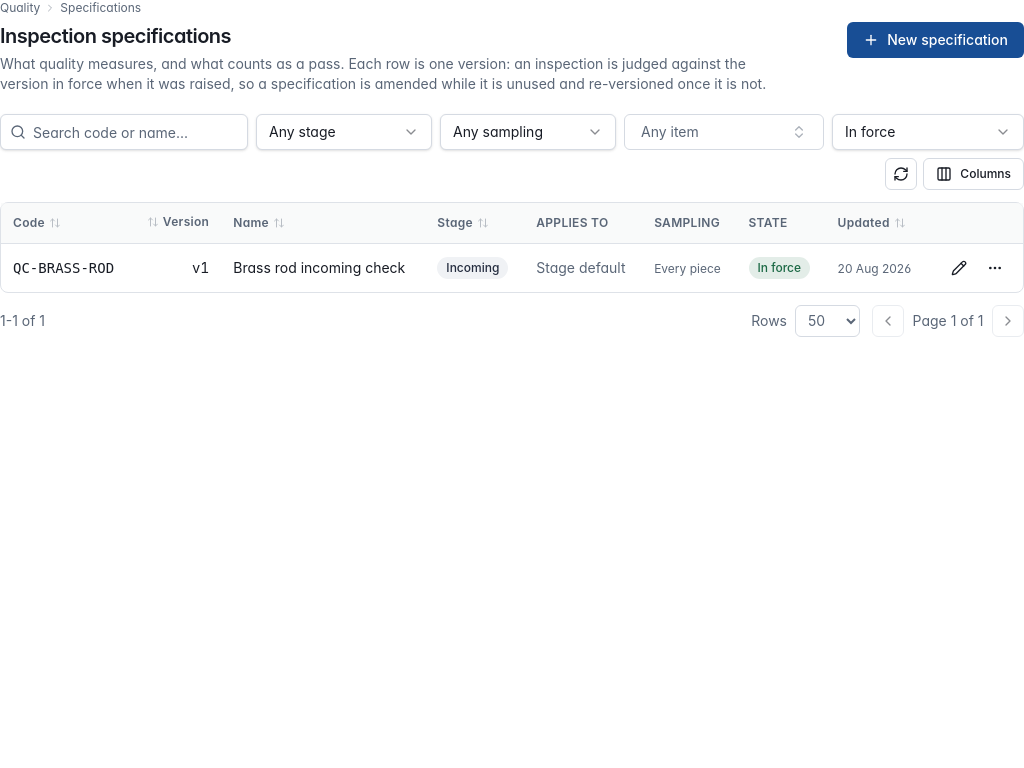
amending a version › puts a field-level refusal on the field it belongs to
Click the button named "Amend QC-BRASS-ROD v1": x=959, y=268 x1=943 y1=252 x2=975 y2=284
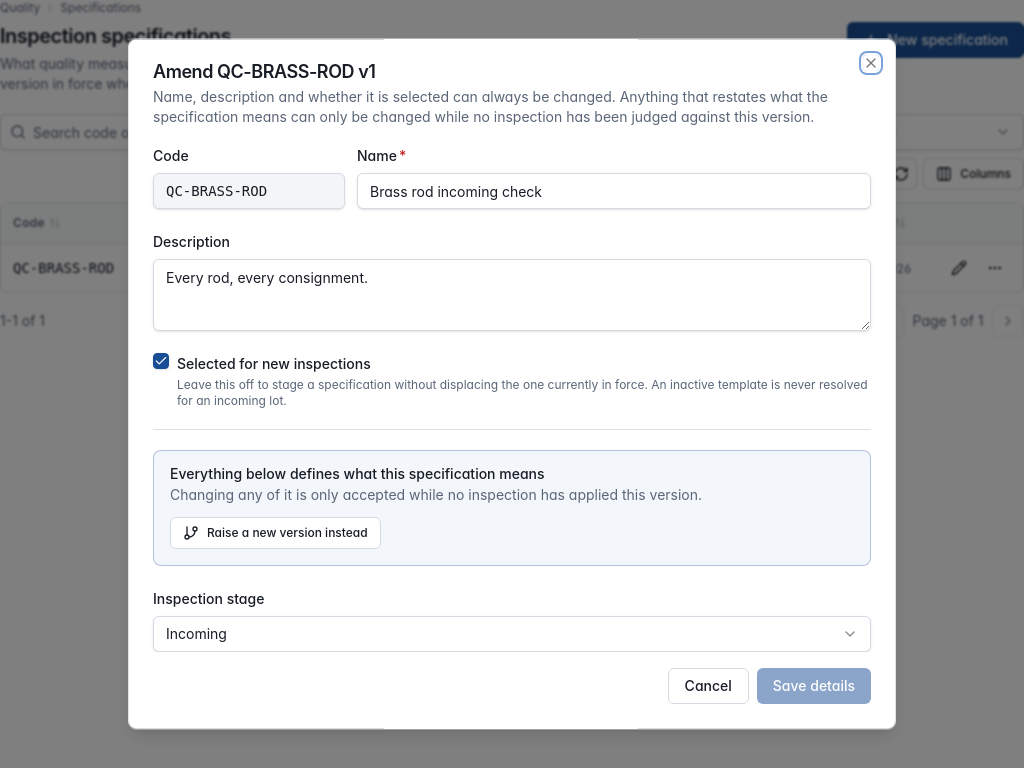
Now the field showing "Brass rod incoming check" is shown
Replace the text in the field labelled "Name" with "Brass rod check": x=614, y=191 x1=357 y1=173 x2=871 y2=209
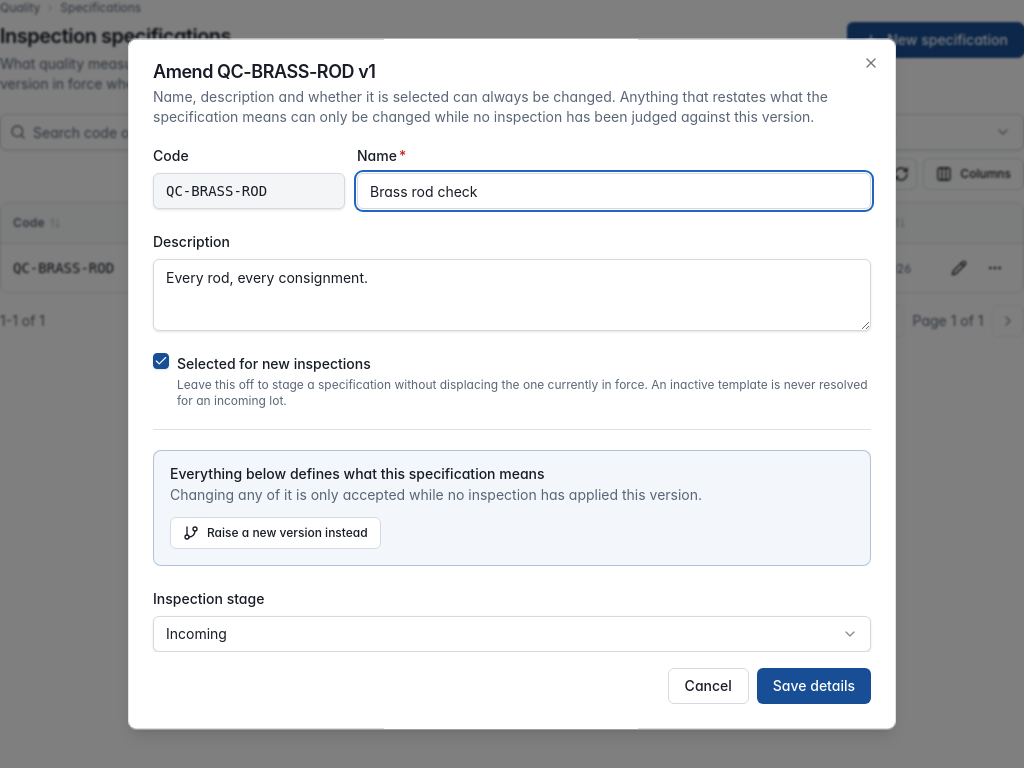
Click the button "Save details": x=814, y=687 x1=757 y1=669 x2=871 y2=705
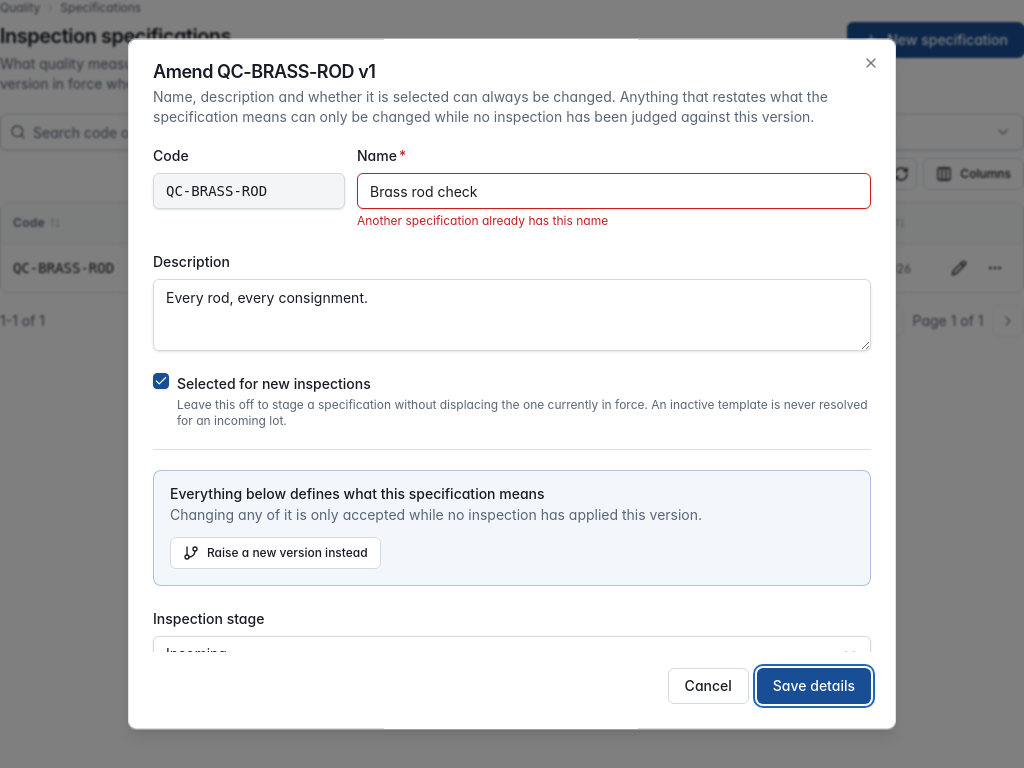
Now the text "Another specification already has this name" is shown, box x1=357 y1=213 x2=608 y2=228
